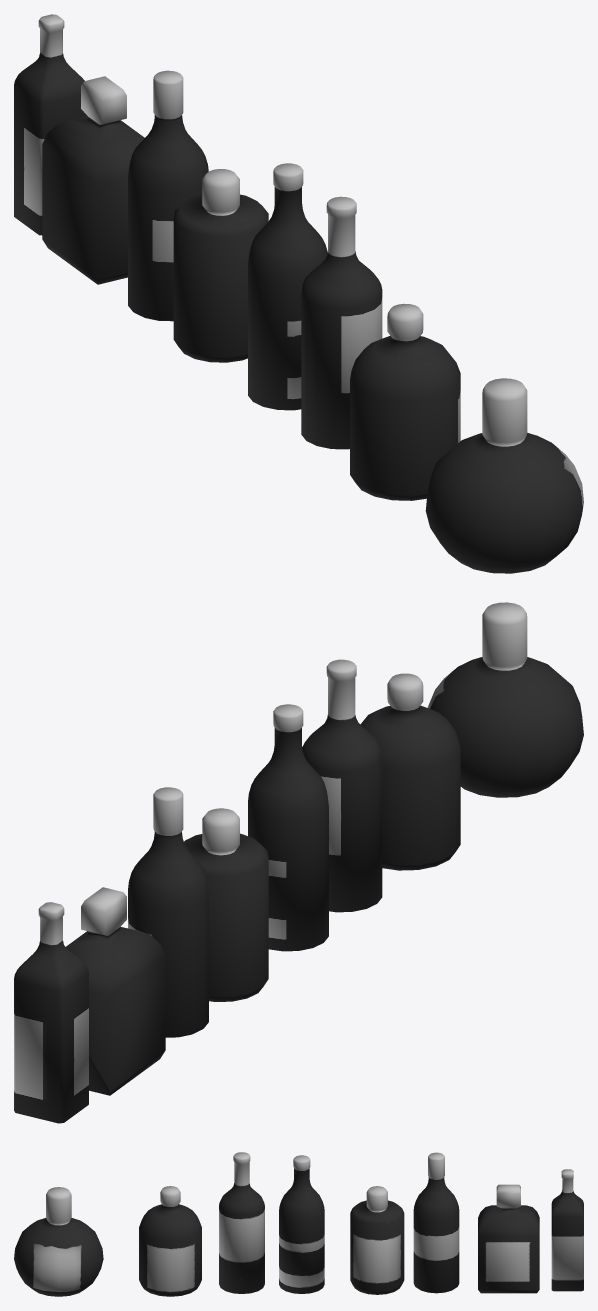
Rendered from bouteilles_01.fbx.
The picture shows the model from 3 angles, top to bottom: view 1: azimuth 30°, elevation 25°; view 2: azimuth 150°, elevation 25°; view 3: azimuth 270°, elevation 25°; orthographic projection. The views are drawn at different scales.
Visible parts, largest first — view 1: bottle_.001, bottle_.002, bottle_.007, bottle_.005, bottle_.003, bottle_.004, bottle_.006, bottle_.008; view 2: bottle_.001, bottle_.004, bottle_.002, bottle_.007, bottle_.008, bottle_.003, bottle_.006, bottle_.005; view 3: bottle_.001, bottle_.007, bottle_.002, bottle_.006, bottle_.003, bottle_.005, bottle_.004, bottle_.008.
Boxes of the visible parts, bbox=[...] form: bottle_.001: bbox=[425, 378, 583, 573]; bottle_.002: bbox=[350, 303, 460, 500]; bottle_.007: bbox=[42, 76, 144, 284]; bottle_.005: bbox=[173, 169, 268, 362]; bottle_.003: bbox=[301, 196, 382, 449]; bottle_.004: bbox=[248, 163, 327, 410]; bottle_.006: bbox=[128, 70, 208, 321]; bottle_.008: bbox=[14, 14, 86, 235]; bottle_.001: bbox=[427, 602, 583, 797]; bottle_.004: bbox=[248, 704, 328, 951]; bottle_.002: bbox=[360, 673, 460, 870]; bottle_.007: bbox=[66, 887, 165, 1095]; bottle_.008: bbox=[14, 902, 88, 1123]; bottle_.003: bbox=[302, 659, 382, 912]; bottle_.006: bbox=[128, 787, 208, 1037]; bottle_.005: bbox=[184, 808, 268, 1001]; bottle_.001: bbox=[14, 1187, 103, 1296]; bottle_.007: bbox=[478, 1184, 539, 1293]; bottle_.002: bbox=[139, 1186, 201, 1296]; bottle_.006: bbox=[413, 1152, 459, 1293]; bottle_.003: bbox=[219, 1152, 264, 1293]; bottle_.005: bbox=[350, 1186, 404, 1294]; bottle_.004: bbox=[279, 1155, 324, 1293]; bottle_.008: bbox=[551, 1169, 583, 1291].
Bounding box in the file's own units: 0.1836 × 0.2924 × 1.17.
